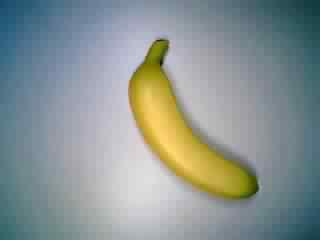banana: (125, 36, 263, 204)
